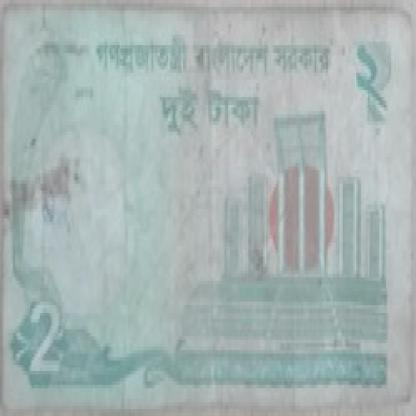two taka: (148, 73, 275, 142), (22, 281, 76, 392)
